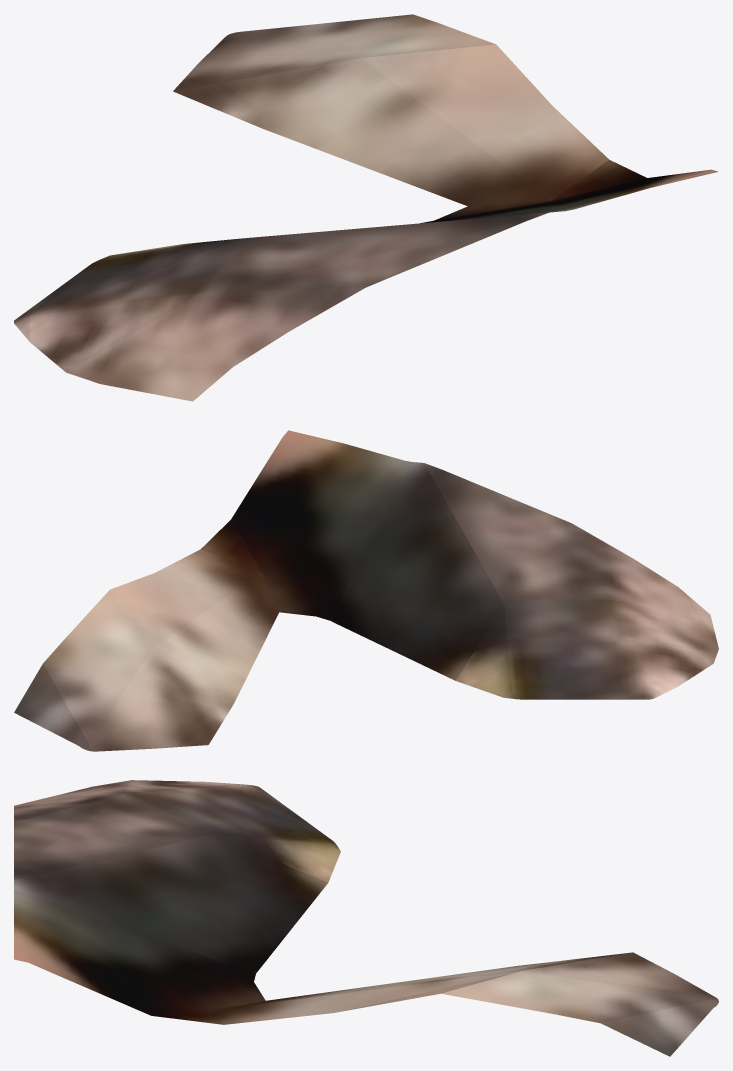
3 views of the same model, one above another, from view 1: azimuth 30°, elevation 25°; view 2: azimuth 150°, elevation 25°; view 3: azimuth 270°, elevation 25° (orthographic). The views are drawn at different scales.
Bounding box in the file's own units: 0.2405 × 0.0397 × 0.2589.
1 material, 1 textured.
